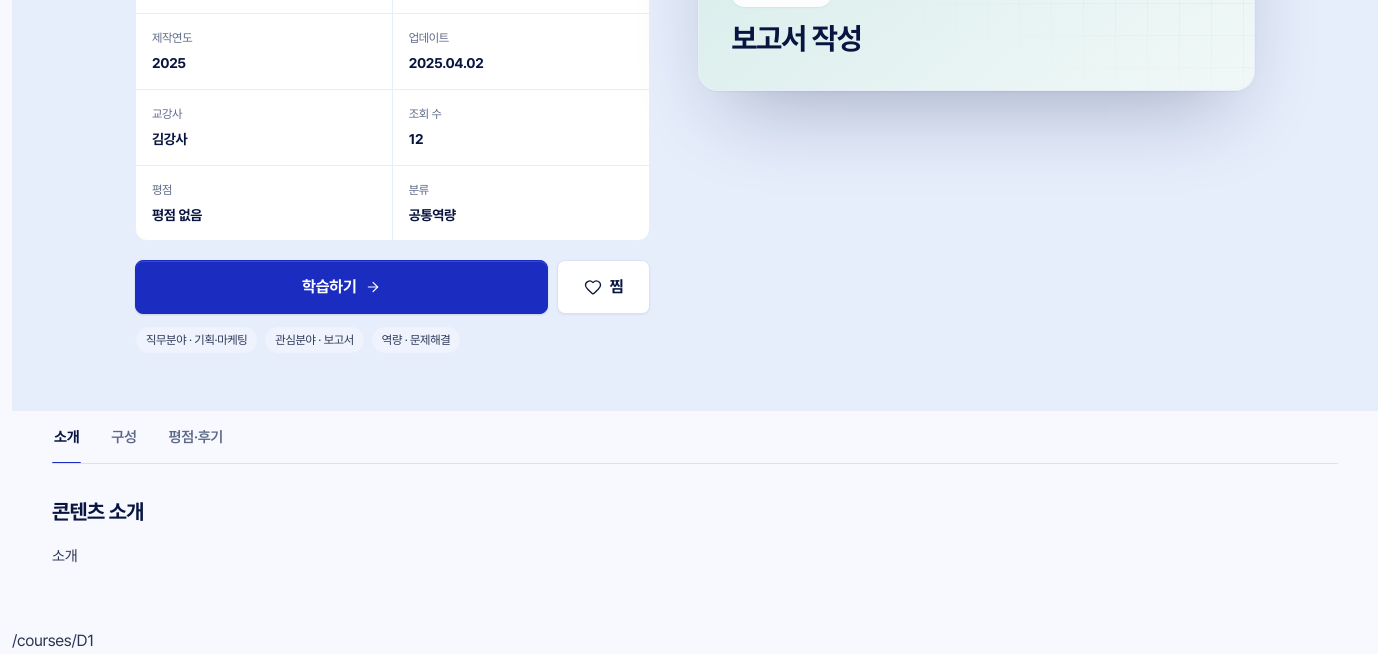
Test: 찜 / 상세 / 학습하기 › 평점 needs study history (canRate) and the reviews tab reads GET /reviews
(page scrolled)
Click the tab "평점·후기" at x=196, y=437, box [167,411,225,463]
(page scrolled)
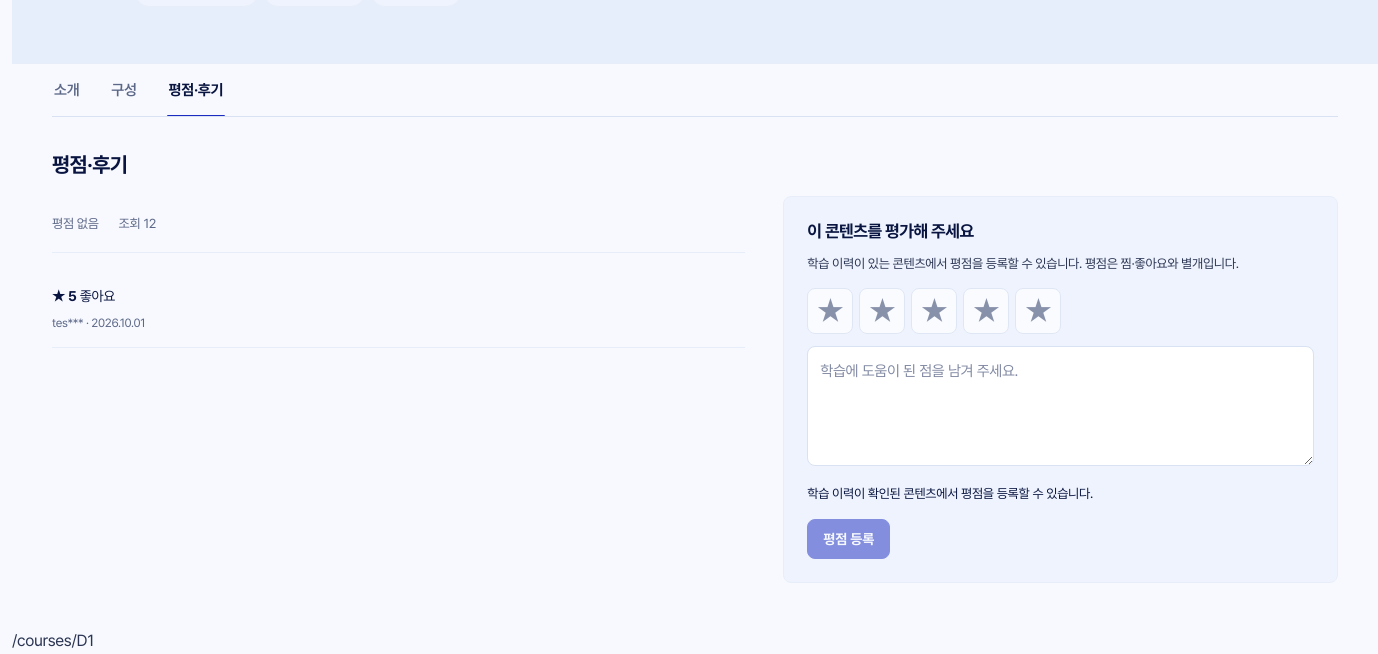
Now the text "학습 이력이 있는 콘텐츠에서 평점을 등록할 수 있습니다. 평점은 찜·좋아요와 별개입니다." is shown, box [807,252,1314,276]
Now the text "학습 이력이 확인된 콘텐츠에서 평점을 등록할 수 있습니다." is shown, box [807,486,1093,501]
Now the button "평점 등록" is disabled, box [807,519,890,559]
